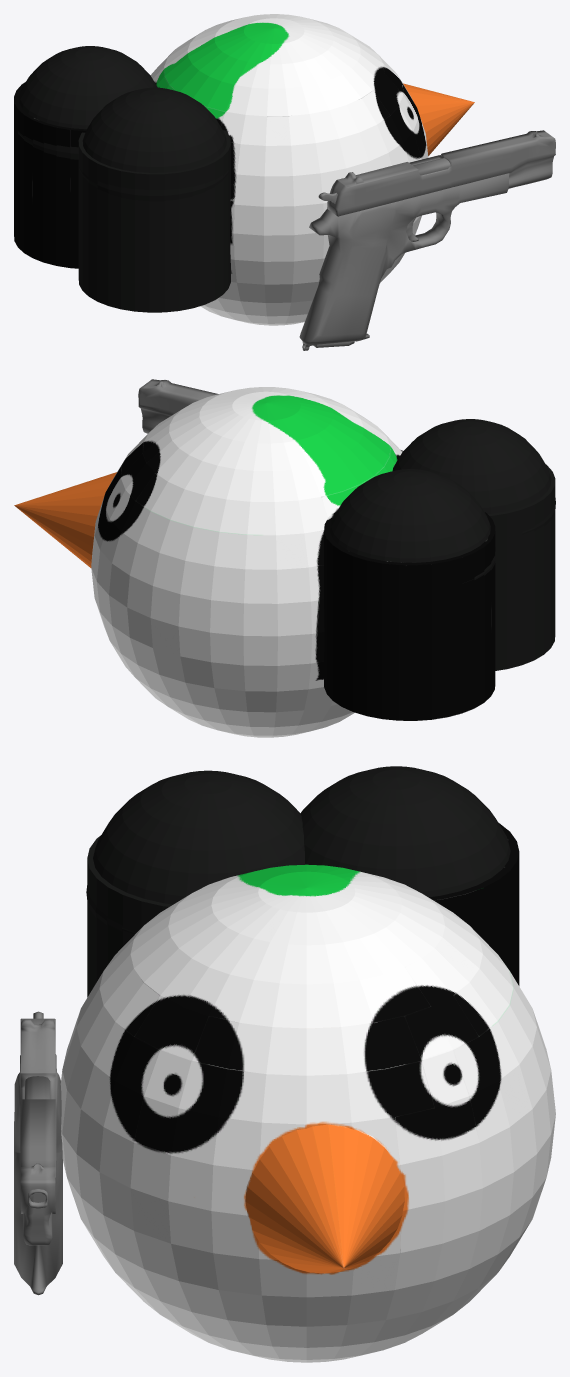
File: Green chicken.fbx
3 renders of one model, top to bottom at view 1: azimuth 30°, elevation 25°; view 2: azimuth 150°, elevation 25°; view 3: azimuth 270°, elevation 25°, orthographic. The views are drawn at different scales.
Visible parts, largest first — view 1: node_id7 (×3), node_id60, node_id58; view 2: node_id7 (×3), node_id58; view 3: node_id7 (×3), node_id58, node_id60, node_id56.
Boxes of the visible parts, <box> form: node_id7 (×3): <box>14,14,474,325</box>; node_id60: <box>299,173,509,350</box>; node_id58: <box>327,130,555,216</box>; node_id7 (×3): <box>14,387,555,737</box>; node_id58: <box>138,379,218,433</box>; node_id7 (×3): <box>60,766,555,1362</box>; node_id58: <box>20,1018,55,1245</box>; node_id60: <box>14,1054,62,1295</box>; node_id56: <box>24,1076,50,1208</box>.
Size of the model in its own units: 0.512 by 0.3183 by 0.3461.
11 materials, 10 textured.
